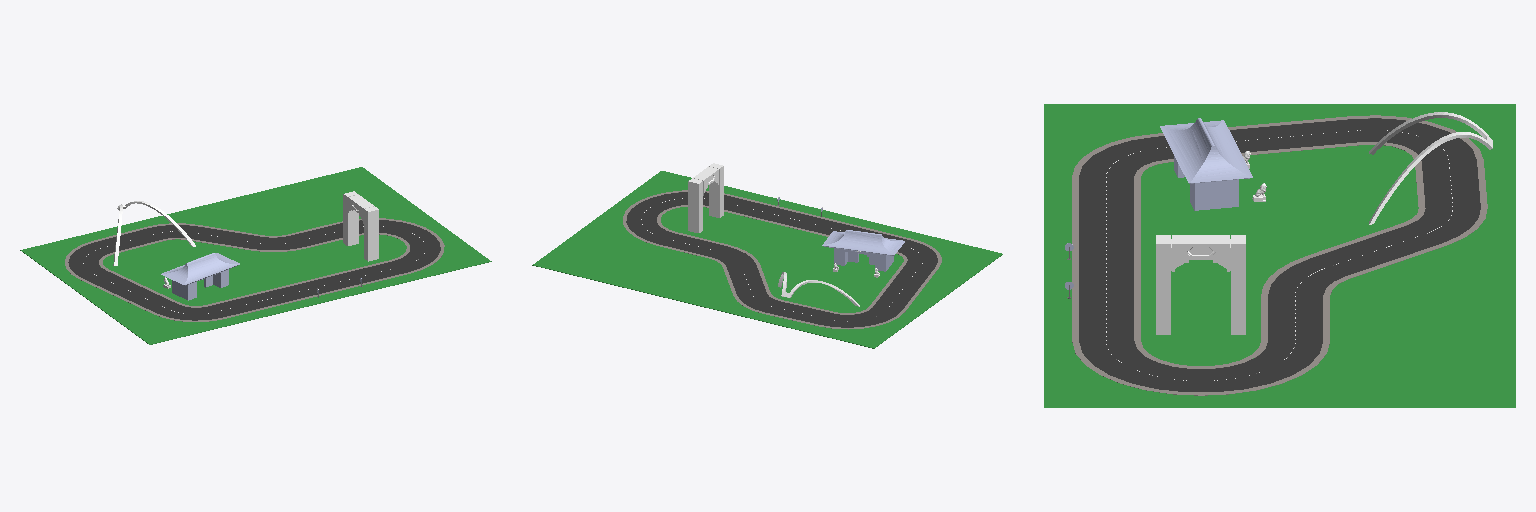
robot.urdf — raceworld:
<?xml version="1.0" encoding="utf-8"?>
<!-- This URDF was automatically created by SolidWorks to URDF Exporter! Originally created by [author] ([email redacted]) 
     Commit Version: 1.5.1-0-g916b5db  Build Version: 1.5.7152.31018
     For more information, please see http://wiki.ros.org/sw_urdf_exporter -->
<robot
  name="raceworld">
  
  
  <gazebo reference="base_link">
   <material>Gazebo/Residential</material>
   <turnGravityOff>false</turnGravityOff>
   <mu1 value="5000"/>
   <mu2 value="5000"/>
   <kp  value="1000000.0" />
   <kd  value="100000.0" />
   <fdir1 value="1 0 0"/>
  </gazebo> 
  
  <gazebo reference="grass_Link">
    <material>Gazebo/Grass</material>
    <turnGravityOff>false</turnGravityOff>
  </gazebo>   
  
  <gazebo reference="midline_Link">
    <material>Gazebo/Yellow</material>
    <turnGravityOff>false</turnGravityOff>
  </gazebo> 
  <gazebo reference="roadguard_Link">
    <material>Gazebo/Grey</material>
    <turnGravityOff>false</turnGravityOff>
  </gazebo>
  <gazebo reference="signsupport_Link">
    <material>Gazebo/Grey</material>
    <turnGravityOff>false</turnGravityOff>
  </gazebo>
  <gazebo reference="stopsignbg_Link">
    <material>Gazebo/Red</material>
    <turnGravityOff>false</turnGravityOff>
  </gazebo>
  <gazebo reference="startsignbg_Link">
    <material>Gazebo/Green</material>
    <turnGravityOff>false</turnGravityOff>
  </gazebo>
  <gazebo reference="word_Link">
    <material>Gazebo/White</material>
    <turnGravityOff>false</turnGravityOff>
  </gazebo>
  <gazebo reference="signbg_Link">
    <material>Gazebo/White</material>
    <turnGravityOff>false</turnGravityOff>
  </gazebo>
  
  <gazebo reference="bridge1_Link">
    <material>Gazebo/White</material>
    <turnGravityOff>false</turnGravityOff>
  </gazebo>
  <gazebo reference="bridge2_Link">
    <material>Gazebo/Grey</material>
    <turnGravityOff>false</turnGravityOff>
  </gazebo> 
  
  <gazebo reference="bridge3roof_Link">
    <material>Gazebo/Black</material>
    <turnGravityOff>false</turnGravityOff>
  </gazebo>
  <gazebo reference="bridge3bottom_Link">
    <material>Gazebo/Red</material>
    <turnGravityOff>false</turnGravityOff>
  </gazebo>
  <gazebo reference="bridge3support_Link">
    <material>Gazebo/Blue</material>
    <turnGravityOff>false</turnGravityOff>
  </gazebo> 
   <gazebo reference="bridge3ws_Link">
    <material>Gazebo/Yellow</material>
    <turnGravityOff>false</turnGravityOff>
  </gazebo>
  <gazebo reference="bridge3word_Link">
    <material>Gazebo/Yellow</material>
    <turnGravityOff>false</turnGravityOff>
  </gazebo> 
  
  <gazebo reference="bridge3lion_Link">
    <material>Gazebo/Grey</material>
    <turnGravityOff>false</turnGravityOff>
  </gazebo>

  <gazebo reference="bridge3wbg_Link">
    <material>Gazebo/Blue</material>
    <turnGravityOff>false</turnGravityOff>
  </gazebo>  
   
  
  
  
  
  
  <link
    name="base_link">
    <inertial>
      <origin
        xyz="-0.23109 0.55837 0.0005"
        rpy="0 0 0" />
      <mass
        value="10.777" />
      <inertia
        ixx="21.315"
        ixy="10.04"
        ixz="-6.1572E-16"
        iyy="50.695"
        iyz="1.3047E-15"
        izz="72.011" />
    </inertial>
    <visual>
      <origin
        xyz="0 0 0.0001"
        rpy="0 0 0" />
      <geometry>
        <mesh
          filename="package://raceworld/meshes/base_link.STL" />
      </geometry>
      <material
        name="">
        <color
          rgba="0.29804 0.29804 0.29804 1" />
      </material>
    </visual>
    <collision>
      <origin
        xyz="0 0 0"
        rpy="0 0 0" />
      <geometry>
        <mesh
          filename="package://raceworld/meshes/base_link.STL" />
      </geometry>
    </collision>
  </link>
  <link
    name="grass_Link">
    <inertial>
      <origin
        xyz="0.02018 0.8675 -0.005"
        rpy="0 0 0" />
      <mass
        value="411.05" />
      <inertia
        ixx="922.47"
        ixy="-4.5837E-13"
        ixz="1.7797E-18"
        iyy="2149.2"
        iyz="5.6483E-14"
        izz="3071.7" />
    </inertial>
    <visual>
      <origin
        xyz="0 0 0.0001"
        rpy="0 0 0" />
      <geometry>
        <mesh
          filename="package://raceworld/meshes/grass_Link.STL" />
      </geometry>
      <material
        name="">
        <color
          rgba="0.28627 0.66275 0.32941 1" />
      </material>
    </visual>
    <collision>
      <origin
        xyz="0 0 0"
        rpy="0 0 0" />
      <geometry>
        <mesh
          filename="package://raceworld/meshes/grass_Link.STL" />
      </geometry>
    </collision>
  </link>
  <joint
    name="grass_Joint"
    type="fixed">
    <origin
      xyz="0 0 0"
      rpy="0 0 0" />
    <parent
      link="base_link" />
    <child
      link="grass_Link" />
    <axis
      xyz="0 0 0" />
  </joint>
  <link
    name="roadguard_Link">
    <inertial>
      <origin
        xyz="-0.23109 0.55837 0.001"
        rpy="0 0 0" />
      <mass
        value="5.3884" />
      <inertia
        ixx="11.29"
        ixy="5.063"
        ixz="-3.1245E-16"
        iyy="26.12"
        iyz="6.8958E-16"
        izz="37.411" />
    </inertial>
    <visual>
      <origin
        xyz="0 0 0"
        rpy="0 0 0" />
      <geometry>
        <mesh
          filename="package://raceworld/meshes/roadguard_Link.STL" />
      </geometry>
      <material
        name="">
        <color
          rgba="0.64314 0.61569 0.6 1" />
      </material>
    </visual>
    <collision>
      <origin
        xyz="0 0 0"
        rpy="0 0 0" />
      <geometry>
        <mesh
          filename="package://raceworld/meshes/roadguard_Link.STL" />
      </geometry>
    </collision>
  </link>
  <joint
    name="roadguard_Joint"
    type="fixed">
    <origin
      xyz="0 0 0"
      rpy="0 0 0" />
    <parent
      link="base_link" />
    <child
      link="roadguard_Link" />
    <axis
      xyz="0 0 0" />
  </joint>
  <link
    name="midline_Link">
    <inertial>
      <origin
        xyz="-0.23126 0.55822 0.00075"
        rpy="0 0 0" />
      <mass
        value="0.078" />
      <inertia
        ixx="6.6462E-07"
        ixy="5.151E-19"
        ixz="-1.5488E-22"
        iyy="6.6463E-07"
        iyz="1.1524E-22"
        izz="1.3E-06" />
    </inertial>
    <visual>
      <origin
        xyz="0 -0.003 0"
        rpy="0 0 0" />
      <geometry>
        <mesh
          filename="package://raceworld/meshes/midline_Link.STL" />
      </geometry>
      <material
        name="">
        <color
          rgba="1 1 1 1" />
      </material>
    </visual>
    <collision>
      <origin
        xyz="0 0 0"
        rpy="0 0 0" />
      <geometry>
        <mesh
          filename="package://raceworld/meshes/midline_Link.STL" />
      </geometry>
    </collision>
  </link>
  <joint
    name="midline_Joint"
    type="fixed">
    <origin
      xyz="0 0 0"
      rpy="0 0 0" />
    <parent
      link="base_link" />
    <child
      link="midline_Link" />
    <axis
      xyz="0 0 0" />
  </joint>
  <link
    name="signsupport_Link">
    <inertial>
      <origin
        xyz="0.62162 -0.60521 0.06105"
        rpy="0 0 0" />
      <mass
        value="0.068432" />
      <inertia
        ixx="0.00017248"
        ixy="-4.0843E-14"
        ixz="-8.9055E-08"
        iyy="0.00017247"
        iyz="1.4217E-12"
        izz="6.394E-06" />
    </inertial>
    <visual>
      <origin
        xyz="0 -0.85 0"
        rpy="0 0 0" />
      <geometry>
        <mesh
          filename="package://raceworld/meshes/signsupport_Link.STL" />
      </geometry>
      <material
        name="">
        <color
          rgba="0.49804 0.49804 0.49804 1" />
      </material>
    </visual>
    <collision>
      <origin
        xyz="0 0 0"
        rpy="0 0 0" />
      <geometry>
        <mesh
          filename="package://raceworld/meshes/signsupport_Link.STL" />
      </geometry>
    </collision>
  </link>
  <joint
    name="signsupport_Joint"
    type="fixed">
    <origin
      xyz="0 0 0"
      rpy="0 0 0" />
    <parent
      link="base_link" />
    <child
      link="signsupport_Link" />
    <axis
      xyz="0 0 0" />
  </joint>
  <link
    name="signbg_Link">
    <inertial>
      <origin
        xyz="0.6106 -0.60521 0.144"
        rpy="0 0 0" />
      <mass
        value="0.0028274" />
      <inertia
        ixx="5.7432E-06"
        ixy="6.6813E-22"
        ixz="-8.2918E-22"
        iyy="2.8718E-06"
        iyz="3.6705E-22"
        izz="2.8718E-06" />
    </inertial>
    <visual>
      <origin
        xyz="0 -0.85 0"
        rpy="0 0 0" />
      <geometry>
        <mesh
          filename="package://raceworld/meshes/signbg_Link.STL" />
      </geometry>
      <material
        name="">
        <color
          rgba="1 1 1 1" />
      </material>
    </visual>
    <collision>
      <origin
        xyz="0 0 0"
        rpy="0 0 0" />
      <geometry>
        <mesh
          filename="package://raceworld/meshes/signbg_Link.STL" />
      </geometry>
    </collision>
  </link>
  <joint
    name="signbg_Joint"
    type="fixed">
    <origin
      xyz="0 0 0"
      rpy="0 0 0" />
    <parent
      link="base_link" />
    <child
      link="signbg_Link" />
    <axis
      xyz="0 0 0" />
  </joint>
  <link
    name="word_Link">
    <inertial>
      <origin
        xyz="0.57181 -0.60491 0.14539"
        rpy="0 0 0" />
      <mass
        value="0.0013963" />
      <inertia
        ixx="5.5232E-08"
        ixy="-3.5064E-13"
        ixz="4.1093E-14"
        iyy="3.2207E-08"
        iyz="6.3051E-10"
        izz="2.3258E-08" />
    </inertial>
    <visual>
      <origin
        xyz="0 -0.85 0"
        rpy="0 0 0" />
      <geometry>
        <mesh
          filename="package://raceworld/meshes/word_Link.STL" />
      </geometry>
      <material
        name="">
        <color
          rgba="1 1 1 1" />
      </material>
    </visual>
    <collision>
      <origin
        xyz="0 0 0"
        rpy="0 0 0" />
      <geometry>
        <mesh
          filename="package://raceworld/meshes/word_Link.STL" />
      </geometry>
    </collision>
  </link>
  <joint
    name="word_Joint"
    type="fixed">
    <origin
      xyz="0 0 0"
      rpy="0 0 0" />
    <parent
      link="base_link" />
    <child
      link="word_Link" />
    <axis
      xyz="0 0 0" />
  </joint>
  <link
    name="stopsignbg_Link">
    <inertial>
      <origin
        xyz="0.1126 -0.60521 0.144"
        rpy="0 0 0" />
      <mass
        value="0.023562" />
      <inertia
        ixx="2.9452E-05"
        ixy="1.939E-21"
        ixz="-1.2214E-37"
        iyy="1.4744E-05"
        iyz="-1.8808E-37"
        izz="1.4744E-05" />
    </inertial>
    <visual>
      <origin
        xyz="0 -0.85 0"
        rpy="0 0 0" />
      <geometry>
        <mesh
          filename="package://raceworld/meshes/stopsignbg_Link.STL" />
      </geometry>
      <material
        name="">
        <color
          rgba="0.79216 0.81961 0.93333 1" />
      </material>
    </visual>
    <collision>
      <origin
        xyz="0 0 0"
        rpy="0 0 0" />
      <geometry>
        <mesh
          filename="package://raceworld/meshes/stopsignbg_Link.STL" />
      </geometry>
    </collision>
  </link>
  <joint
    name="stopsignbg_Joint"
    type="fixed">
    <origin
      xyz="0 0 0"
      rpy="0 0 0" />
    <parent
      link="base_link" />
    <child
      link="stopsignbg_Link" />
    <axis
      xyz="0 0 0" />
  </joint>
  <link
    name="startsignbg_Link">
    <inertial>
      <origin
        xyz="1.1126 -0.60521 0.144"
        rpy="0 0 0" />
      <mass
        value="0.023562" />
      <inertia
        ixx="2.9452E-05"
        ixy="5.1771E-21"
        ixz="8.0674E-23"
        iyy="1.4744E-05"
        iyz="3.7058E-22"
        izz="1.4744E-05" />
    </inertial>
    <visual>
      <origin
        xyz="0 -0.85 0"
        rpy="0 0 0" />
      <geometry>
        <mesh
          filename="package://raceworld/meshes/startsignbg_Link.STL" />
      </geometry>
      <material
        name="">
        <color
          rgba="0.79216 0.81961 0.93333 1" />
      </material>
    </visual>
    <collision>
      <origin
        xyz="0 0 0"
        rpy="0 0 0" />
      <geometry>
        <mesh
          filename="package://raceworld/meshes/startsignbg_Link.STL" />
      </geometry>
    </collision>
  </link>
  <joint
    name="startsign_Joint"
    type="fixed">
    <origin
      xyz="0 0 0"
      rpy="0 0 0" />
    <parent
      link="base_link" />
    <child
      link="startsignbg_Link" />
    <axis
      xyz="0 0 0" />
  </joint>
  <link
    name="bridge1_Link">
    <inertial>
      <origin
        xyz="-1.7447 2.4824 0.49802"
        rpy="0 0 0" />
      <mass
        value="10.836" />
      <inertia
        ixx="2.3142"
        ixy="-0.016111"
        ixz="0.0062921"
        iyy="3.7761"
        iyz="-0.76615"
        izz="5.0117" />
    </inertial>
    <visual>
      <origin
        xyz="0 0 0"
        rpy="0 0 0" />
      <geometry>
        <mesh
          filename="package://raceworld/meshes/bridge1_Link.STL" />
      </geometry>
      <material
        name="">
        <color
          rgba="1 1 1 1" />
      </material>
    </visual>
    <collision>
      <origin
        xyz="0 0 0"
        rpy="0 0 0" />
      <geometry>
        <mesh
          filename="package://raceworld/meshes/bridge1_Link.STL" />
      </geometry>
    </collision>
  </link>
  <joint
    name="bridge1_Joint"
    type="fixed">
    <origin
      xyz="0 0 0"
      rpy="0 0 0" />
    <parent
      link="base_link" />
    <child
      link="bridge1_Link" />
    <axis
      xyz="0 0 0" />
  </joint>
  <link
    name="bridge2_Link">
    <inertial>
      <origin
        xyz="1.9586 -0.0038019 0.66512"
        rpy="0 0 0" />
      <mass
        value="126.53" />
      <inertia
        ixx="31.959"
        ixy="1.6676E-13"
        ixz="-8.1191E-17"
        iyy="14.996"
        iyz="1.4543E-15"
        izz="18.296" />
    </inertial>
    <visual>
      <origin
        xyz="0 0 0"
        rpy="0 0 0" />
      <geometry>
        <mesh
          filename="package://raceworld/meshes/bridge2_Link.STL" />
      </geometry>
      <material
        name="">
        <color
          rgba="1 1 1 1" />
      </material>
    </visual>
    <collision>
      <origin
        xyz="0 0 0"
        rpy="0 0 0" />
      <geometry>
        <mesh
          filename="package://raceworld/meshes/bridge2_Link.STL" />
      </geometry>
    </collision>
  </link>
  <joint
    name="bridge2_Joint"
    type="fixed">
    <origin
      xyz="0 0 0"
      rpy="0 0 0" />
    <parent
      link="base_link" />
    <child
      link="bridge2_Link" />
    <axis
      xyz="0 0 0" />
  </joint>
  <link
    name="bridge3roof_Link">
    <inertial>
      <origin
        xyz="-1.7355 0.056824 0.47054"
        rpy="0 0 0" />
      <mass
        value="9.5841" />
      <inertia
        ixx="0.58147"
        ixy="-0.3125"
        ixz="-0.00053509"
        iyy="1.9856"
        iyz="-0.00014678"
        izz="2.4583" />
    </inertial>
    <visual>
      <origin
        xyz="0 0 0"
        rpy="0 0 0" />
      <geometry>
        <mesh
          filename="package://raceworld/meshes/bridge3roof_Link.STL" />
      </geometry>
      <material
        name="">
        <color
          rgba="0.79216 0.81961 0.93333 1" />
      </material>
    </visual>
    <collision>
      <origin
        xyz="0 0 0"
        rpy="0 0 0" />
      <geometry>
        <mesh
          filename="package://raceworld/meshes/bridge3roof_Link.STL" />
      </geometry>
    </collision>
  </link>
  <joint
    name="bridge3roof_Joint"
    type="fixed">
    <origin
      xyz="0 0 0"
      rpy="0 0 0" />
    <parent
      link="base_link" />
    <child
      link="bridge3roof_Link" />
    <axis
      xyz="0 0 0" />
  </joint>
  <link
    name="bridge3bottom_Link">
    <inertial>
      <origin
        xyz="-1.73532747324161 0.0572783623882027 0.224301970034508"
        rpy="0 0 0" />
      <mass
        value="114.465" />
      <inertia
        ixx="4.64565115304739"
        ixy="-3.32462563825795"
        ixz="6.21708579222429E-16"
        iyy="19.5801140390311"
        iyz="2.40131903249755E-16"
        izz="20.778290125" />
    </inertial>
    <visual>
      <origin
        xyz="0 0 0"
        rpy="0 0 0" />
      <geometry>
        <mesh
          filename="package://raceworld/meshes/bridge3bottom_Link.STL" />
      </geometry>
      <material
        name="">
        <color
          rgba="0.792156862745098 0.819607843137255 0.933333333333333 1" />
      </material>
    </visual>
    <collision>
      <origin
        xyz="0 0 0"
        rpy="0 0 0" />
      <geometry>
        <mesh
          filename="package://raceworld/meshes/bridge3bottom_Link.STL" />
      </geometry>
    </collision>
  </link>
  <joint
    name="bridge3bottom_Joint"
    type="fixed">
    <origin
      xyz="0 0 0"
      rpy="0 0 0" />
    <parent
      link="base_link" />
    <child
      link="bridge3bottom_Link" />
    <axis
      xyz="0 0 0" />
  </joint>
  <link
    name="bridge3support_Link">
    <inertial>
      <origin
        xyz="-1.7826 0.27953 0.33143"
        rpy="0 0 0" />
      <mass
        value="0.86429" />
      <inertia
        ixx="0.00043741"
        ixy="-0.00098684"
        ixz="1.3652E-18"
        iyy="0.0048704"
        iyz="3.4268E-19"
        izz="0.005083" />
    </inertial>
    <visual>
      <origin
        xyz="0 0 0"
        rpy="0 0 0" />
      <geometry>
        <mesh
          filename="package://raceworld/meshes/bridge3support_Link.STL" />
      </geometry>
      <material
        name="">
        <color
          rgba="0.79216 0.81961 0.93333 1" />
      </material>
    </visual>
    <collision>
      <origin
        xyz="0 0 0"
        rpy="0 0 0" />
      <geometry>
        <mesh
          filename="package://raceworld/meshes/bridge3support_Link.STL" />
      </geometry>
    </collision>
  </link>
  <joint
    name="bridge3support_Joint"
    type="fixed">
    <origin
      xyz="0 0 0"
      rpy="0 0 0" />
    <parent
      link="base_link" />
    <child
      link="bridge3support_Link" />
    <axis
      xyz="0 0 0" />
  </joint>
  <link
    name="bridge3ws_Link">
    <inertial>
      <origin
        xyz="-1.8029 0.37517 0.39935"
        rpy="0 0 0" />
      <mass
        value="0.00225" />
      <inertia
        ixx="2.2218E-06"
        ixy="-1.286E-06"
        ixz="1.9125E-07"
        iyy="7.9988E-06"
        iyz="-8.9975E-07"
        izz="8.9138E-06" />
    </inertial>
    <visual>
      <origin
        xyz="0 0 0"
        rpy="0 0 0" />
      <geometry>
        <mesh
          filename="package://raceworld/meshes/bridge3ws_Link.STL" />
      </geometry>
      <material
        name="">
        <color
          rgba="0.79216 0.81961 0.93333 1" />
      </material>
    </visual>
    <collision>
      <origin
        xyz="0 0 0"
        rpy="0 0 0" />
      <geometry>
        <mesh
          filename="package://raceworld/meshes/bridge3ws_Link.STL" />
      </geometry>
    </collision>
  </link>
  <joint
    name="bridge3ws_Joint"
    type="fixed">
    <origin
      xyz="0 0 0"
      rpy="0 0 0" />
    <parent
      link="base_link" />
    <child
      link="bridge3ws_Link" />
    <axis
      xyz="0 0 0" />
  </joint>
  <link
    name="bridge3word_Link">
    <inertial>
      <origin
        xyz="-1.8014 0.37502 0.3978"
        rpy="0 0 0" />
      <mass
        value="0.0023459" />
      <inertia
        ixx="1.0464E-07"
        ixy="1.6507E-09"
        ixz="1.0018E-08"
        iyy="9.69E-08"
        iyz="-4.7359E-08"
        izz="1.3033E-07" />
    </inertial>
    <visual>
      <origin
        xyz="0 0 0"
        rpy="0 0 0" />
      <geometry>
        <mesh
          filename="package://raceworld/meshes/bridge3word_Link.STL" />
      </geometry>
      <material
        name="">
        <color
          rgba="0.79216 0.81961 0.93333 1" />
      </material>
    </visual>
    <collision>
      <origin
        xyz="0 0 0"
        rpy="0 0 0" />
      <geometry>
        <mesh
          filename="package://raceworld/meshes/bridge3word_Link.STL" />
      </geometry>
    </collision>
  </link>
  <joint
    name="bridge3word_Joint"
    type="fixed">
    <origin
      xyz="0 0 0"
      rpy="0 0 0" />
    <parent
      link="base_link" />
    <child
      link="bridge3word_Link" />
    <axis
      xyz="0 0 0" />
  </joint>
  <link
    name="bridge3lion_Link">
    <inertial>
      <origin
        xyz="-1.8493 0.56066 0.065609"
        rpy="0 0 0" />
      <mass
        value="2.2402" />
      <inertia
        ixx="0.009151"
        ixy="0.000367"
        ixz="0.00034323"
        iyy="0.0073633"
        iyz="-0.0018205"
        izz="0.0041214" />
    </inertial>
    <visual>
      <origin
        xyz="0 0 0"
        rpy="0 0 0" />
      <geometry>
        <mesh
          filename="package://raceworld/meshes/bridge3lion_Link.STL" />
      </geometry>
      <material
        name="">
        <color
          rgba="1 1 1 1" />
      </material>
    </visual>
    <collision>
      <origin
        xyz="0 0 0"
        rpy="0 0 0" />
      <geometry>
        <mesh
          filename="package://raceworld/meshes/bridge3lion_Link.STL" />
      </geometry>
    </collision>
  </link>
  <joint
    name="bridge3lion_Joint"
    type="fixed">
    <origin
      xyz="0 0 0"
      rpy="0 0 0" />
    <parent
      link="base_link" />
    <child
      link="bridge3lion_Link" />
    <axis
      xyz="0 0 0" />
  </joint>
  <link
    name="bridge3wbg_Link">
    <inertial>
      <origin
        xyz="0 0 0"
        rpy="0 0 0" />
      <mass
        value="0" />
      <inertia
        ixx="0"
        ixy="0"
        ixz="0"
        iyy="0"
        iyz="0"
        izz="0" />
    </inertial>
    <visual>
      <origin
        xyz="0 0 0"
        rpy="0 0 0" />
      <geometry>
        <mesh
          filename="package://raceworld/meshes/bridge3wbg_Link.STL" />
      </geometry>
      <material
        name="">
        <color
          rgba="1 1 1 1" />
      </material>
    </visual>
    <collision>
      <origin
        xyz="0 0 0"
        rpy="0 0 0" />
      <geometry>
        <mesh
          filename="package://raceworld/meshes/bridge3wbg_Link.STL" />
      </geometry>
    </collision>
  </link>
  <joint
    name="bridge3wbg_Joint"
    type="fixed">
    <origin
      xyz="0 0 0"
      rpy="0 0 0" />
    <parent
      link="base_link" />
    <child
      link="bridge3wbg_Link" />
    <axis
      xyz="0 0 0" />
  </joint>
</robot>

--- Facts derived from the render (not from the file) ---
Views: 3 orthographic renders of the robot side by side, from view 1: azimuth 30°, elevation 25°; view 2: azimuth 150°, elevation 25°; view 3: azimuth 270°, elevation 25°.
Model raceworld with 18 links and 17 joints (17 fixed), rooted at base_link, posed every joint at zero.
Links seen in each view (by area): view 1: grass_Link, base_link, roadguard_Link, bridge2_Link, bridge3roof_Link, bridge3bottom_Link, bridge1_Link; view 2: grass_Link, base_link, roadguard_Link, bridge2_Link, bridge3roof_Link, bridge3bottom_Link; view 3: grass_Link, base_link, roadguard_Link, bridge2_Link, bridge3roof_Link, bridge1_Link, bridge3bottom_Link.
Boxes of the visible links, x1,y1,x2,y2 form: grass_Link: [20, 167, 491, 344]; base_link: [68, 220, 440, 320]; roadguard_Link: [65, 218, 444, 321]; bridge2_Link: [343, 191, 378, 261]; bridge3roof_Link: [161, 253, 239, 285]; bridge3bottom_Link: [172, 269, 228, 300]; bridge1_Link: [113, 201, 195, 265]; grass_Link: [532, 171, 1002, 348]; base_link: [626, 192, 937, 327]; roadguard_Link: [623, 190, 941, 329]; bridge2_Link: [688, 163, 723, 232]; bridge3roof_Link: [822, 230, 904, 255]; bridge3bottom_Link: [834, 248, 893, 271]; grass_Link: [1044, 104, 1515, 407]; base_link: [1079, 118, 1480, 391]; roadguard_Link: [1072, 115, 1487, 395]; bridge2_Link: [1156, 235, 1245, 334]; bridge3roof_Link: [1160, 118, 1252, 183]; bridge1_Link: [1369, 112, 1492, 224]; bridge3bottom_Link: [1174, 156, 1238, 210].
Bounding box of the posed robot: 7.92 × 5.19 × 1.11 m (x, y, z).
18 mesh visuals loaded from 18 distinct referenced files (18 binary STL).